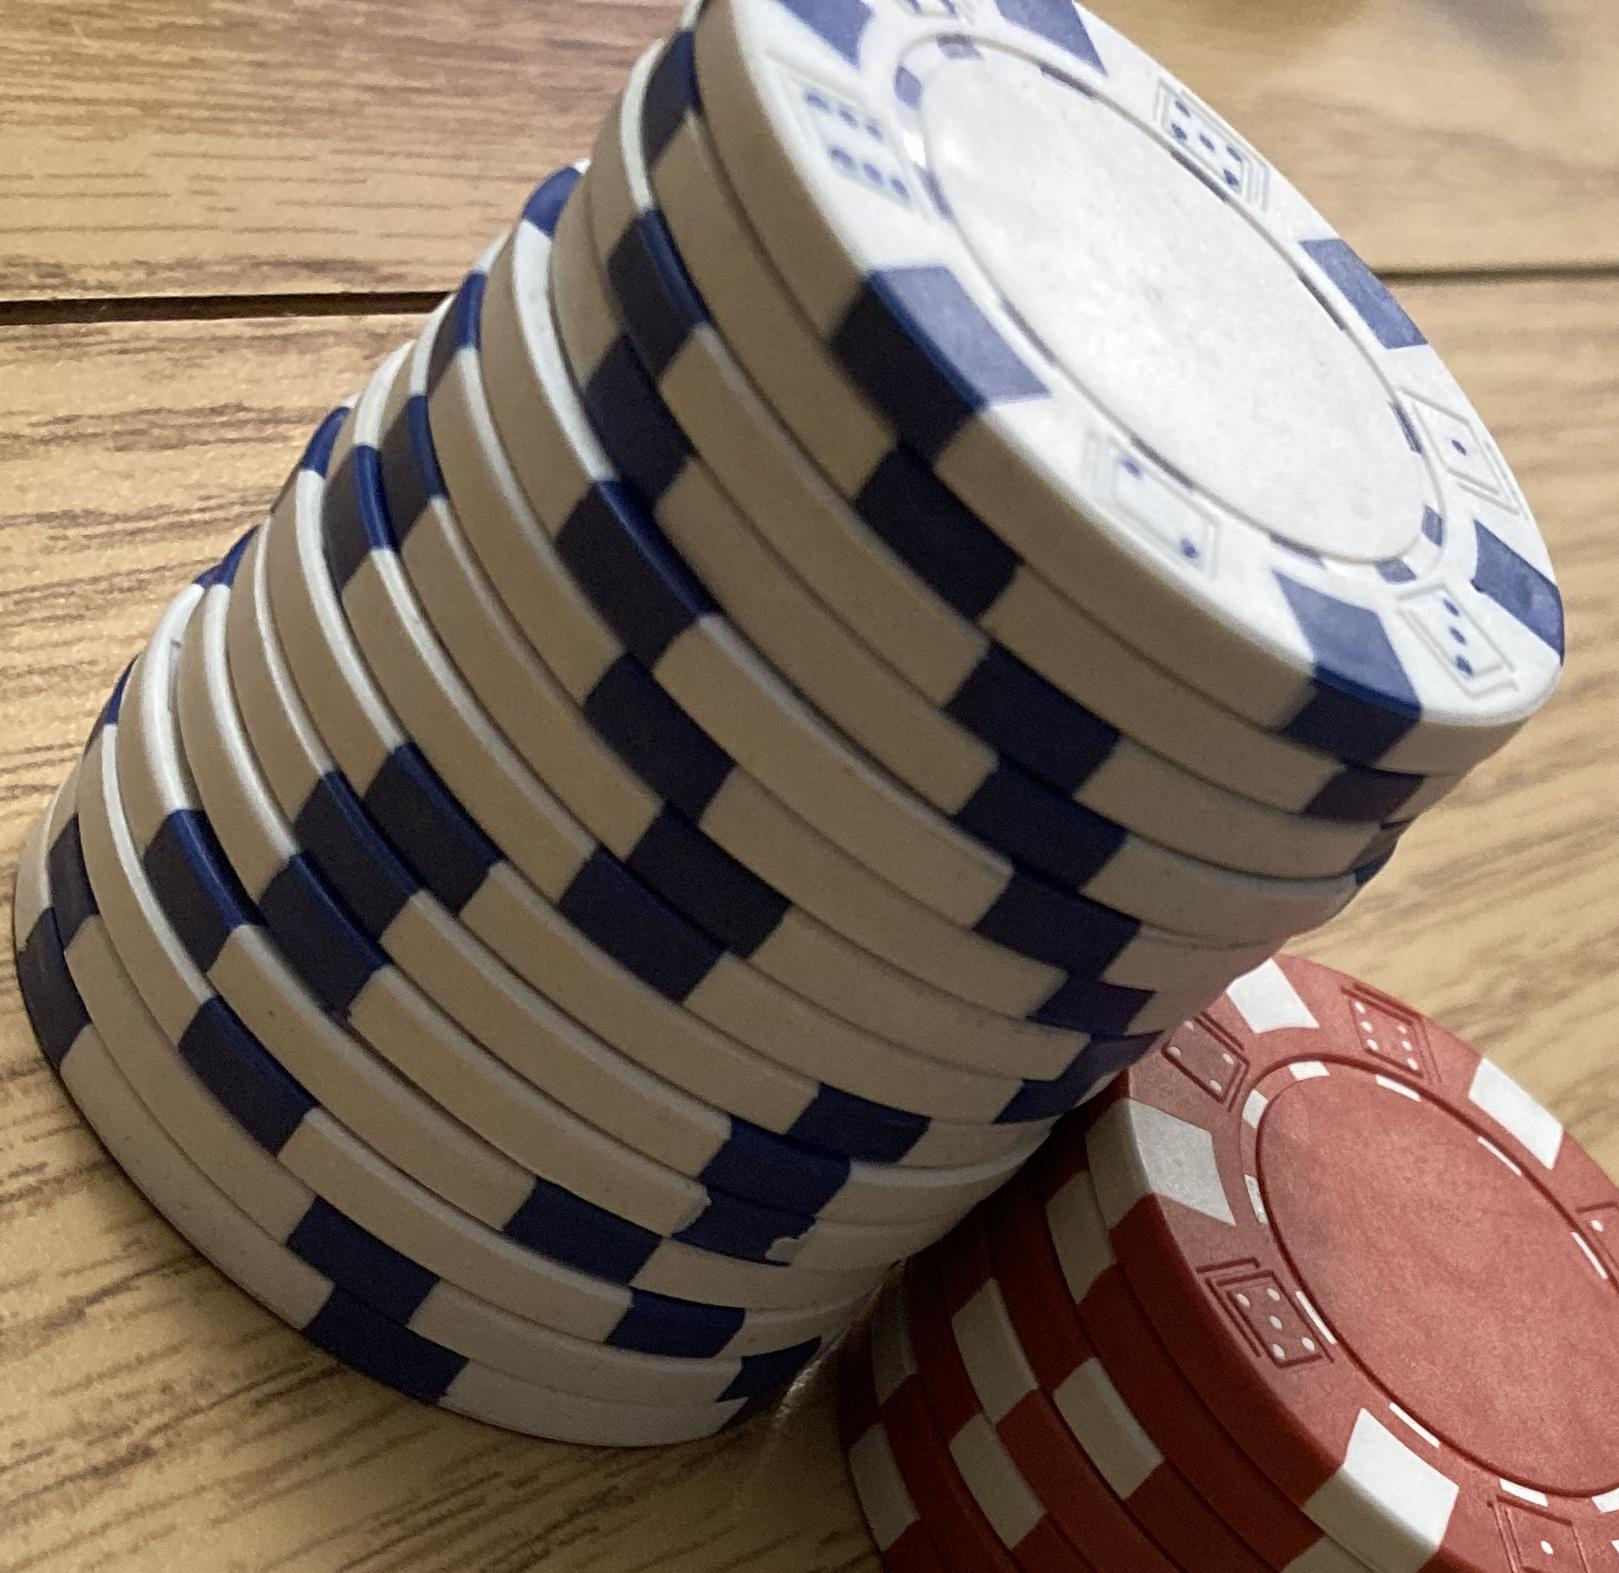Chip: (1, 1, 1619, 1573)
